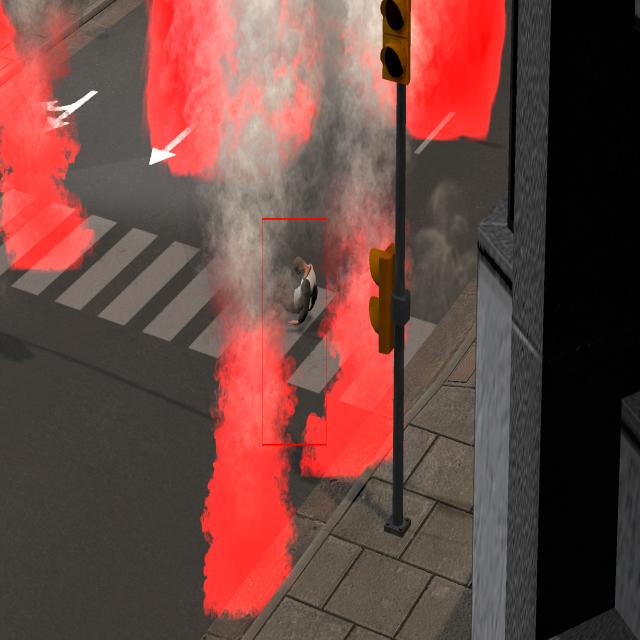Human: (264, 245, 320, 334)
